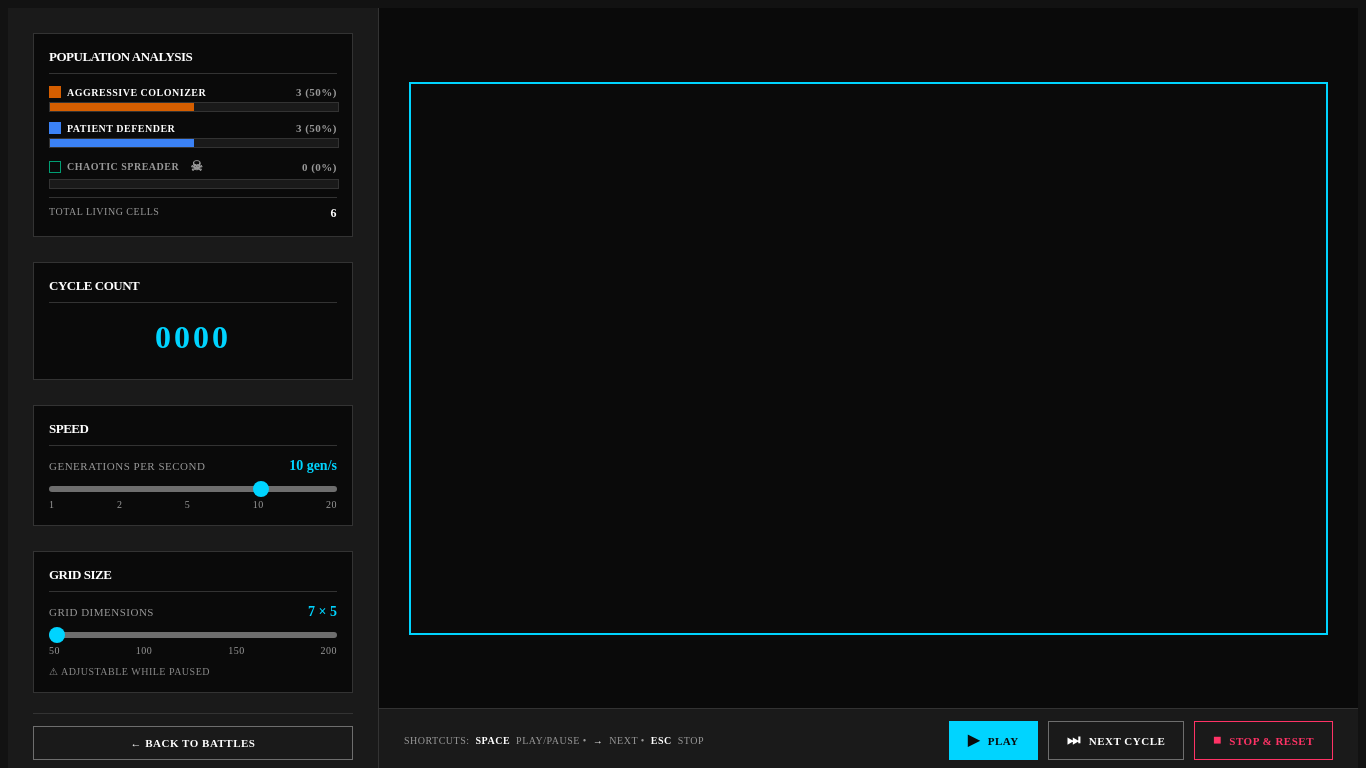
Play-mode ephemeral resize (Story 3.16) › steps and plays on the resized grid; Stop restores the persisted size (AC4)
Set the slider labelled "Grid dimensions" to "3" at (329, 635), box [49, 632, 337, 638]
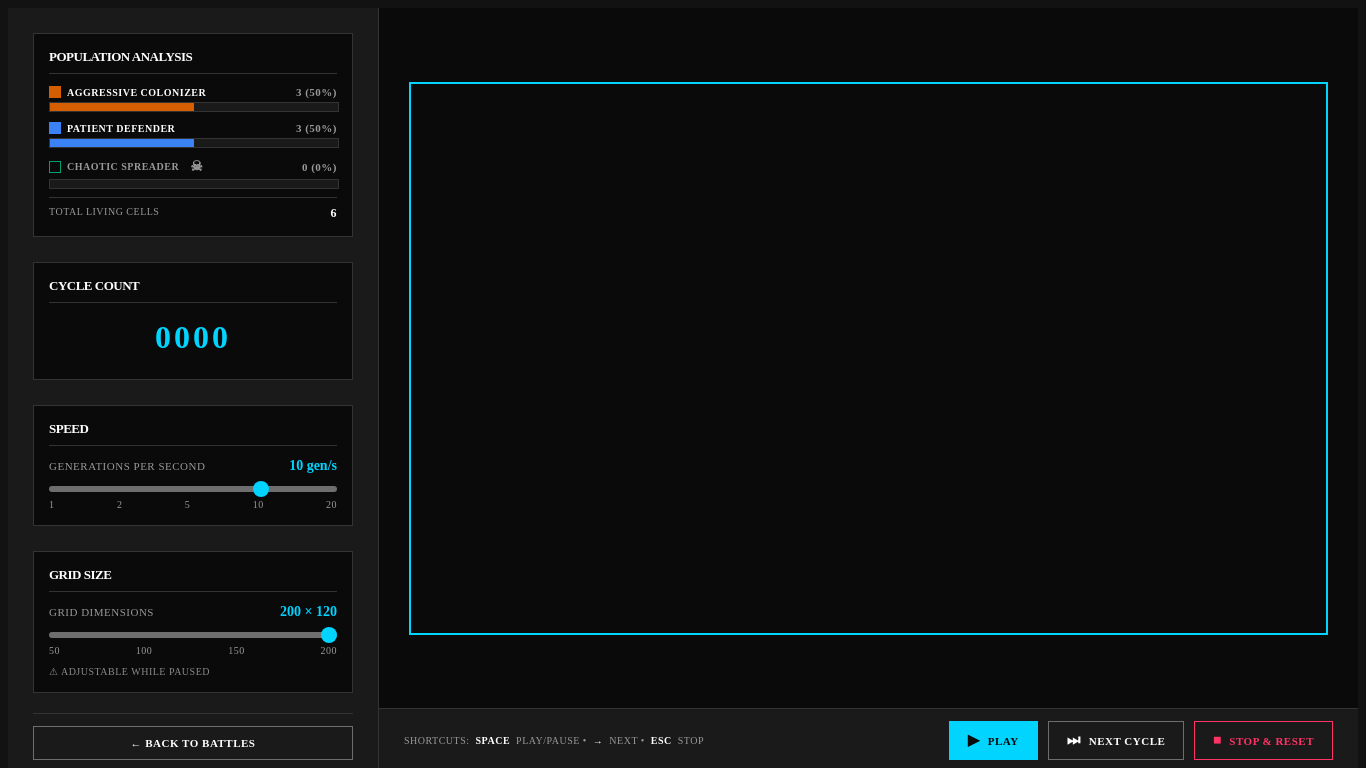
Click the button "⏭ Next cycle" at (1116, 740), box [1048, 721, 1184, 760]
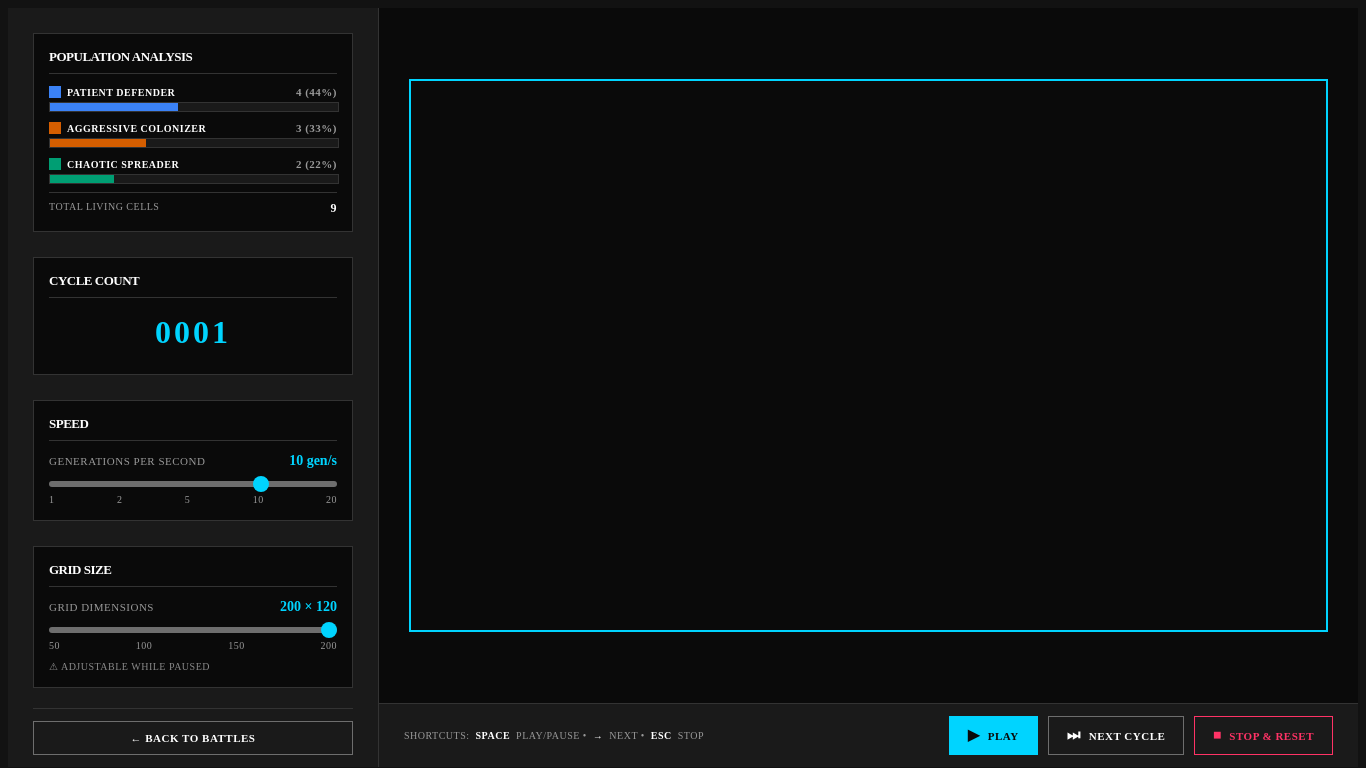
Expected: the element that starts with "Population Analysis" has attribute data-cycle="1"
Click the button "▶ Play" at (993, 736), box [949, 716, 1038, 755]
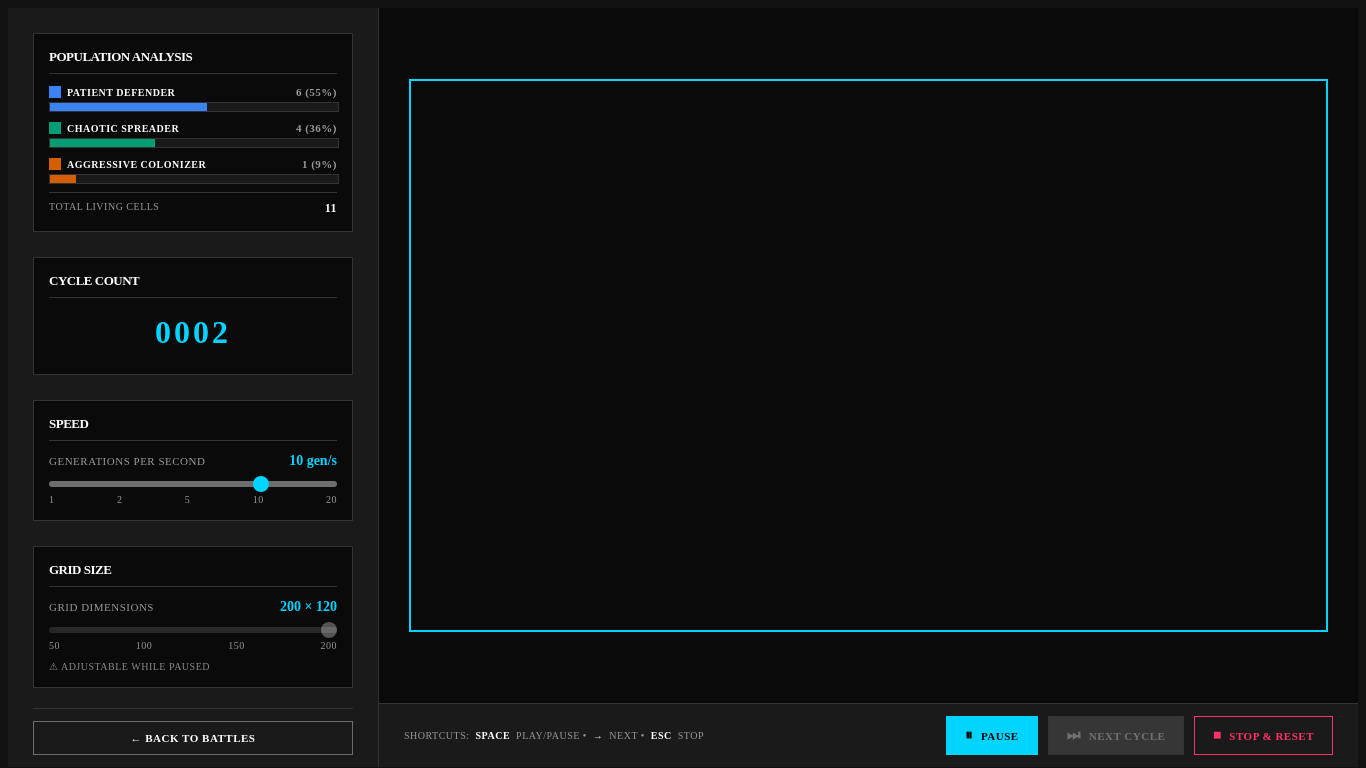
Expected: the element that starts with "Population Analysis" has attribute data-status="playing"
Click the button "⏸ Pause" at (992, 736), box [946, 716, 1038, 755]
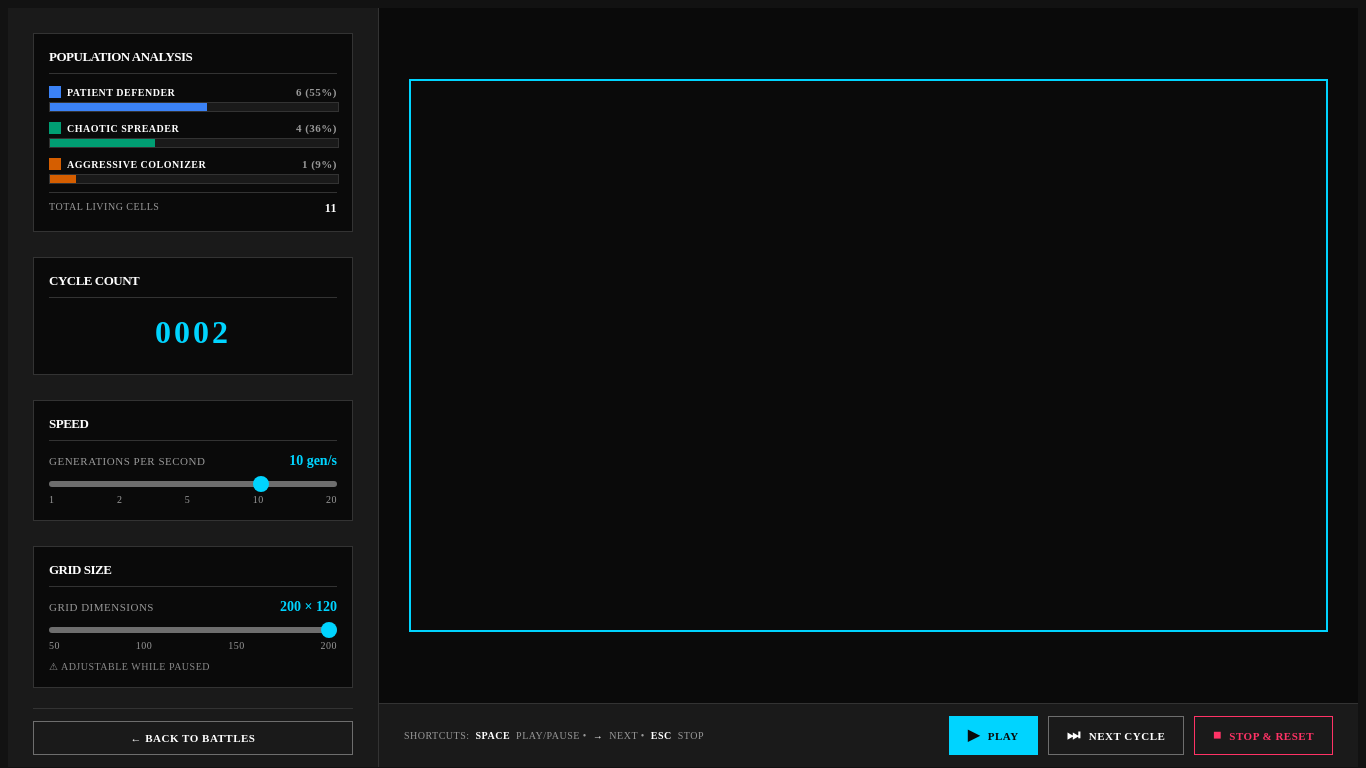
Expected: the element that starts with "Population Analysis" has attribute data-status="paused"
Click the button "⏹ Stop & reset" at (1264, 736), box [1194, 716, 1333, 755]
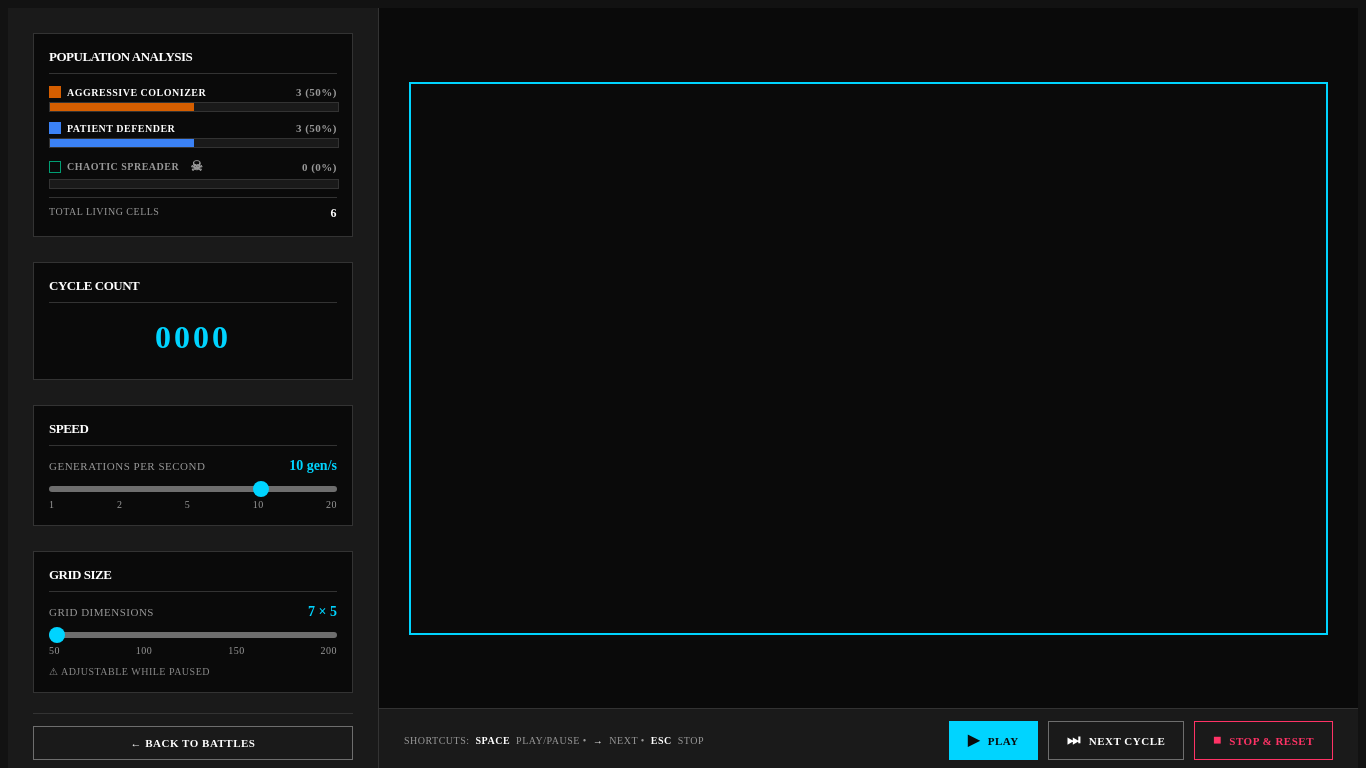
Expected: the slider labelled "Grid dimensions" holds "0", [49, 632, 337, 638]
